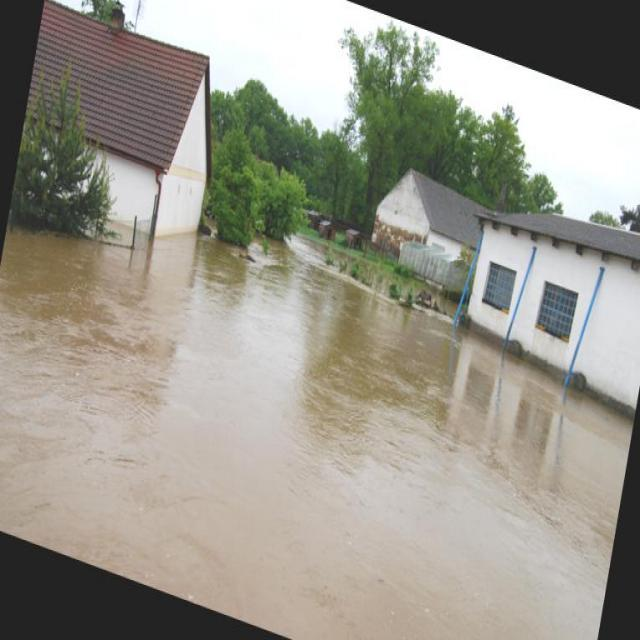flood: (0, 140, 639, 639)
